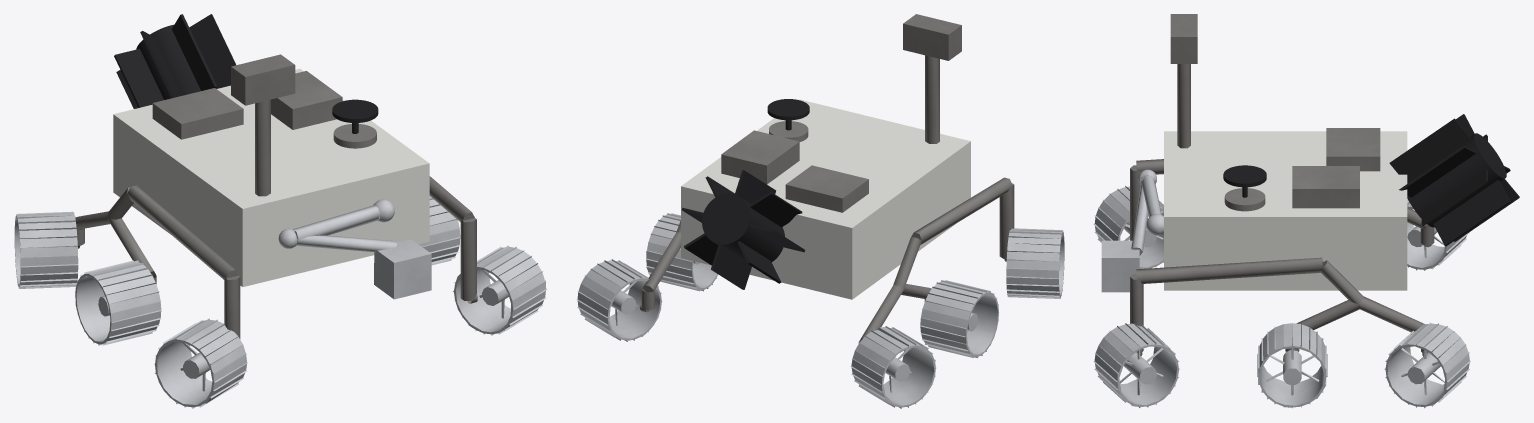
File: rover01_science_rover_steer_left.glb
3 renders of one model, left to right at view 1: azimuth 30°, elevation 25°; view 2: azimuth 150°, elevation 25°; view 3: azimuth 270°, elevation 25°, orthographic. The views are drawn at different scales.
Parts seen in each view (by area): view 1: body_web, mmrtg, rocker_bogie, deck_boxes, wheel_4, robotic_arm, wheel_5, wheel_1, wheel_6, mast, wheel_2, hga; view 2: body_web, mmrtg, deck_boxes, rocker_bogie, wheel_6, wheel_5, wheel_3, wheel_4, mast, wheel_2, hga; view 3: body_web, mmrtg, rocker_bogie, deck_boxes, wheel_1, wheel_3, wheel_2, robotic_arm, mast, wheel_4, wheel_6, hga.
Part boxes in pixels (x1=…): body_web: x1=113, y1=68, x2=429, y2=286; mmrtg: x1=114, y1=14, x2=235, y2=108; rocker_bogie: x1=75, y1=176, x2=477, y2=338; deck_boxes: x1=152, y1=71, x2=376, y2=148; wheel_4: x1=154, y1=318, x2=247, y2=408; robotic_arm: x1=278, y1=199, x2=431, y2=299; wheel_5: x1=75, y1=260, x2=161, y2=345; wheel_1: x1=453, y1=245, x2=546, y2=335; wheel_6: x1=14, y1=211, x2=78, y2=288; mast: x1=231, y1=54, x2=295, y2=196; wheel_2: x1=419, y1=196, x2=460, y2=265; hga: x1=332, y1=99, x2=378, y2=133; body_web: x1=681, y1=99, x2=970, y2=299; mmrtg: x1=682, y1=170, x2=805, y2=289; deck_boxes: x1=721, y1=121, x2=868, y2=212; rocker_bogie: x1=640, y1=177, x2=1014, y2=343; wheel_6: x1=850, y1=326, x2=936, y2=408; wheel_5: x1=920, y1=280, x2=999, y2=357; wheel_3: x1=576, y1=259, x2=662, y2=341; wheel_4: x1=1006, y1=228, x2=1064, y2=298; mast: x1=903, y1=14, x2=961, y2=143; wheel_2: x1=646, y1=213, x2=717, y2=291; hga: x1=767, y1=99, x2=809, y2=130; body_web: x1=1164, y1=131, x2=1407, y2=290; mmrtg: x1=1389, y1=114, x2=1519, y2=246; rocker_bogie: x1=1130, y1=159, x2=1434, y2=356; deck_boxes: x1=1224, y1=128, x2=1380, y2=211; wheel_1: x1=1093, y1=323, x2=1179, y2=407; wheel_3: x1=1384, y1=322, x2=1470, y2=408; wheel_2: x1=1257, y1=323, x2=1327, y2=408; robotic_arm: x1=1101, y1=169, x2=1163, y2=292; mast: x1=1170, y1=14, x2=1197, y2=148; wheel_4: x1=1093, y1=186, x2=1163, y2=268; wheel_6: x1=1407, y1=199, x2=1469, y2=270; hga: x1=1223, y1=165, x2=1266, y2=197.
Bounding box in the file's own units: 2.98 × 2.24 × 3.15.
Materials: 4 (2 with a texture image).
